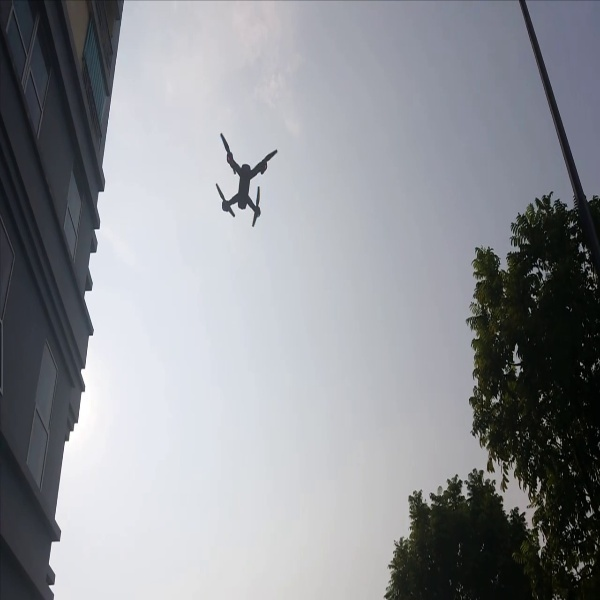drone: (204, 127, 283, 231)
